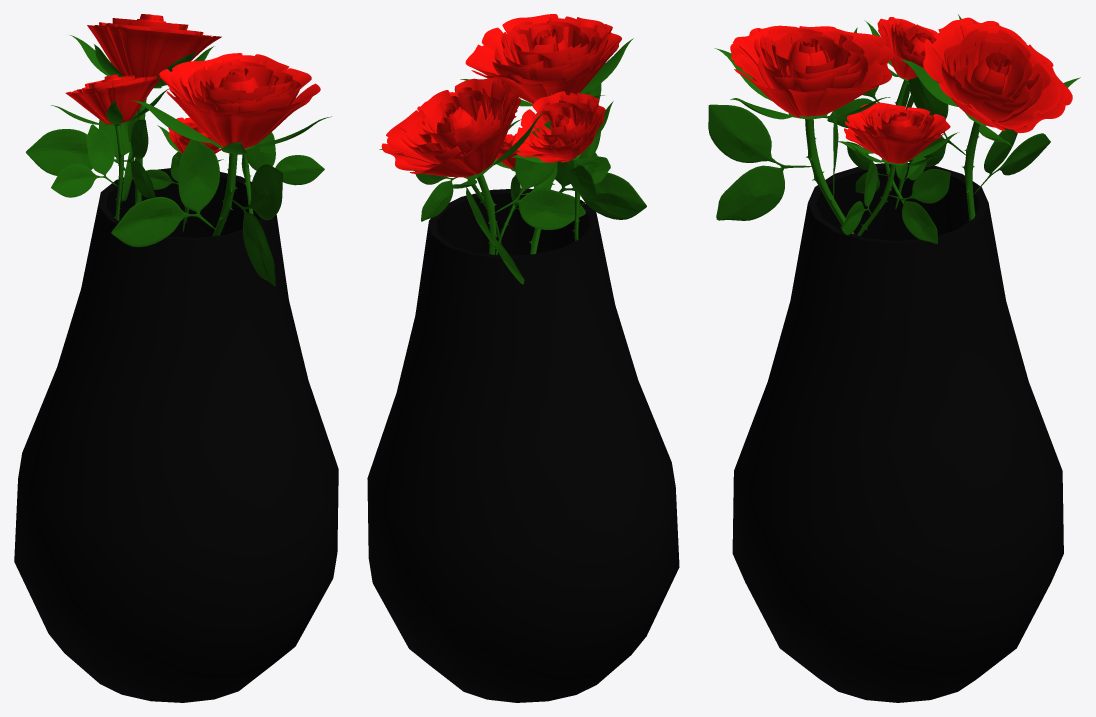
The model's file is Flower Pot.fbx.
The picture shows the model from 3 angles, left to right: view 1: azimuth 30°, elevation 25°; view 2: azimuth 150°, elevation 25°; view 3: azimuth 270°, elevation 25°; orthographic projection. The views are drawn at different scales.
Visible parts, largest first — view 1: Flower Vase; view 2: Flower Vase; view 3: Flower Vase.
Part boxes in pixels (x1=…): Flower Vase: x1=14, y1=14, x2=338, y2=702; Flower Vase: x1=367, y1=14, x2=679, y2=702; Flower Vase: x1=708, y1=14, x2=1080, y2=702.
Size of the model in its own units: 21.3 by 45 by 23.87.
